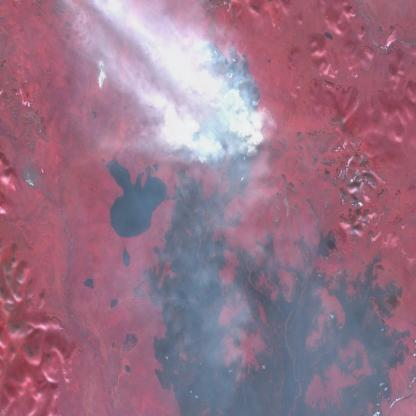fire: (172, 31, 263, 168)
